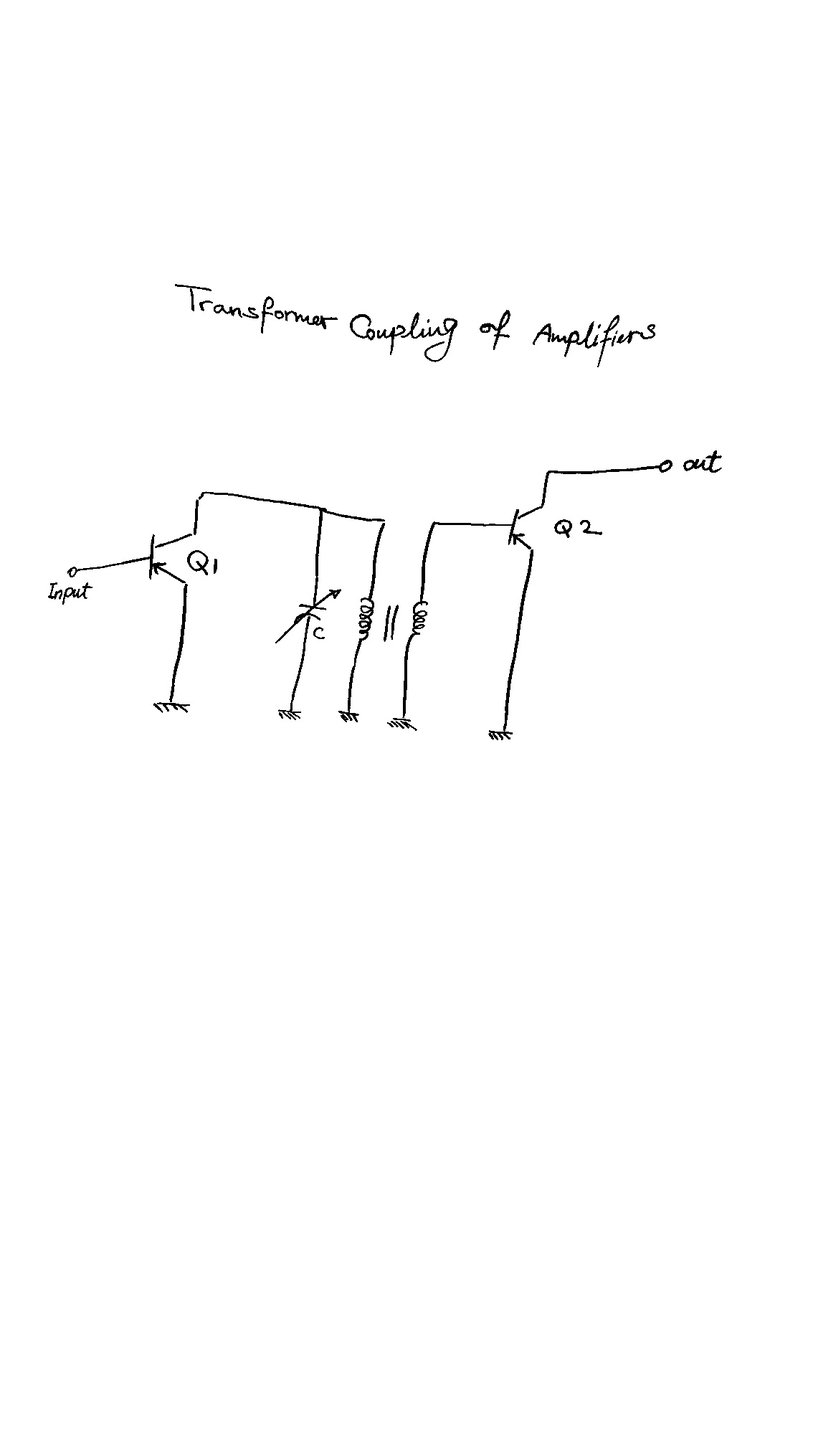capacitor.adjustable: (274, 587, 343, 645)
gnd: (151, 698, 192, 715), (386, 715, 420, 732), (276, 707, 303, 722), (337, 708, 362, 724), (487, 728, 515, 742)
inductor: (409, 597, 429, 642), (358, 597, 376, 643)
junction: (194, 488, 208, 503), (315, 505, 328, 514), (429, 519, 439, 528), (544, 468, 553, 476), (380, 518, 388, 526)
magnetic: (382, 602, 400, 642)
terminal: (657, 458, 673, 473), (66, 565, 79, 579)
text: (171, 281, 657, 369), (47, 580, 93, 606), (553, 518, 604, 539), (683, 449, 724, 475), (185, 548, 219, 578), (311, 625, 328, 641)
transformer: (353, 595, 432, 646)
transistor.bjt: (146, 530, 199, 587), (506, 503, 546, 552)
